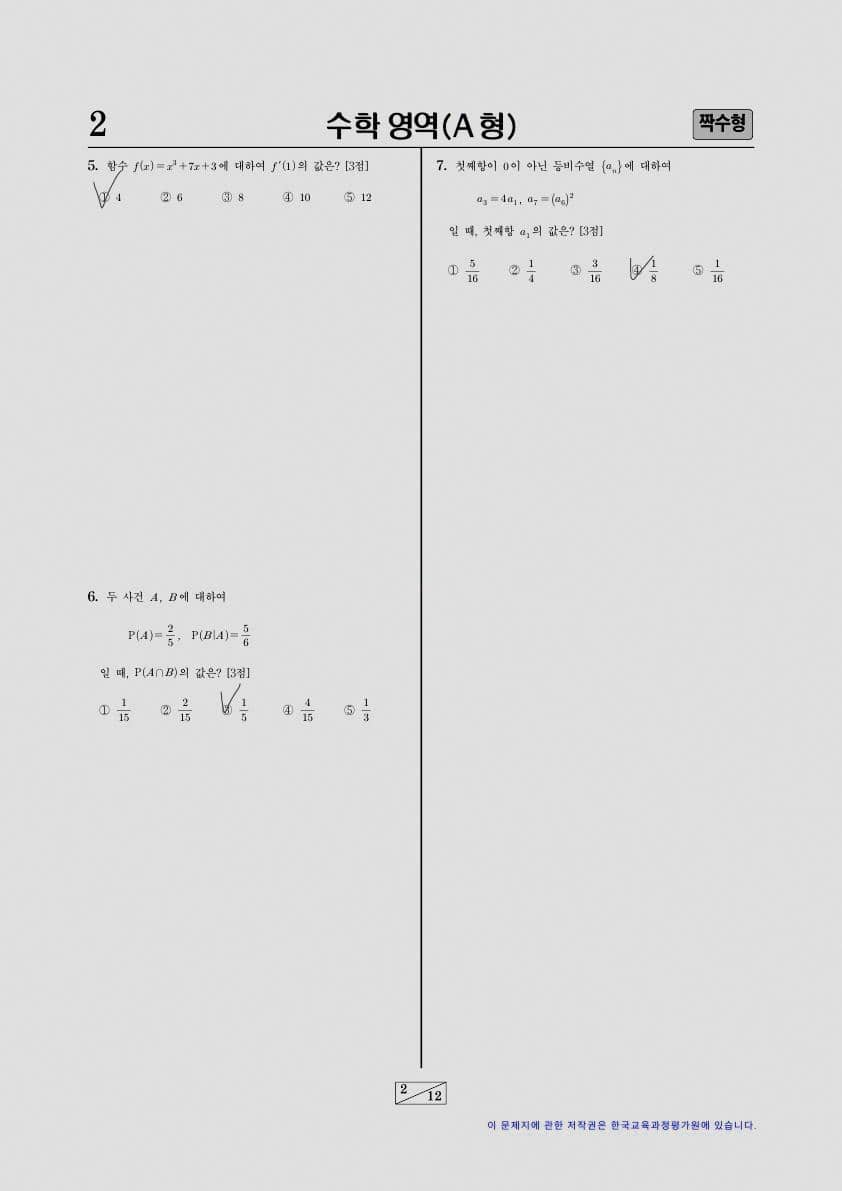question: (68, 582, 390, 744), (424, 153, 741, 300), (74, 149, 391, 229)
